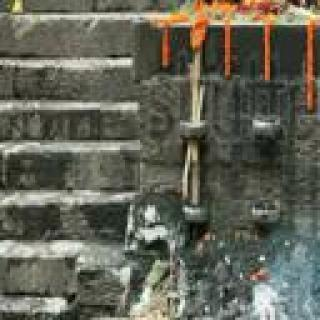fire: (240, 0, 320, 13)
